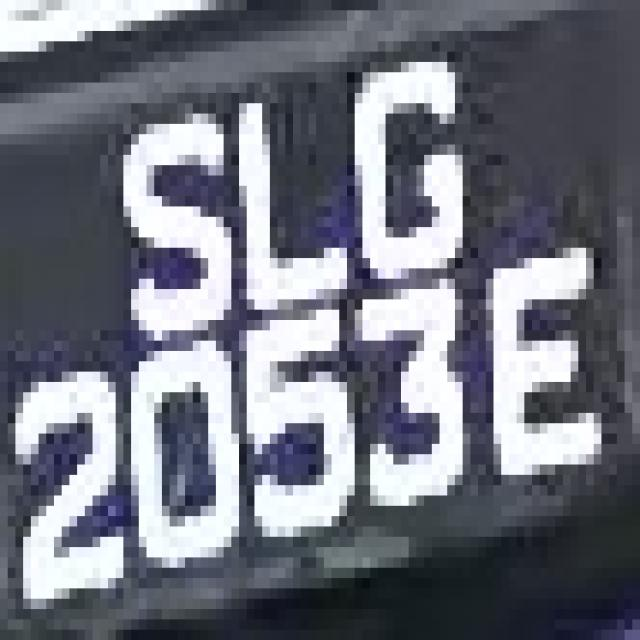0: (108, 299, 247, 568)
2: (0, 320, 131, 609)
3: (324, 299, 470, 526)
5: (216, 289, 378, 537)
E: (447, 238, 617, 516)
G: (339, 72, 486, 310)
L: (224, 93, 347, 320)
S: (100, 62, 239, 320)
